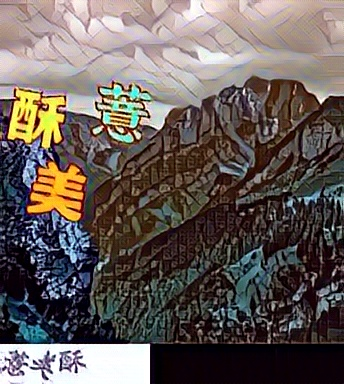C3C0: (24, 156, 89, 220)
CBD6: (5, 84, 70, 148)
DEB2: (88, 79, 153, 143)
